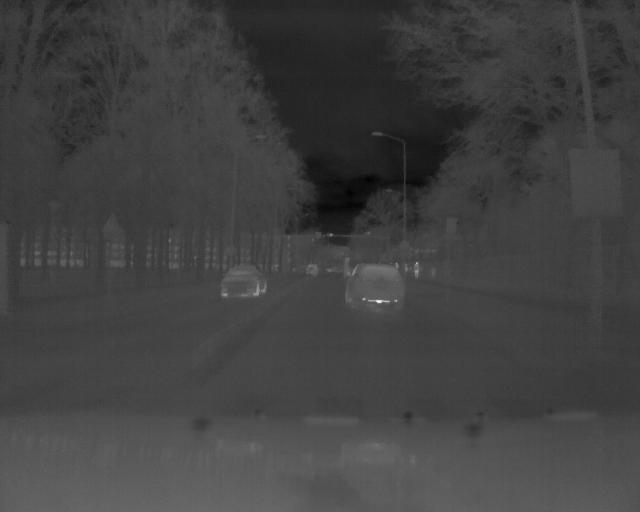car: (342, 264, 406, 313), (220, 262, 269, 303), (305, 261, 318, 276)
person: (412, 260, 423, 281)
